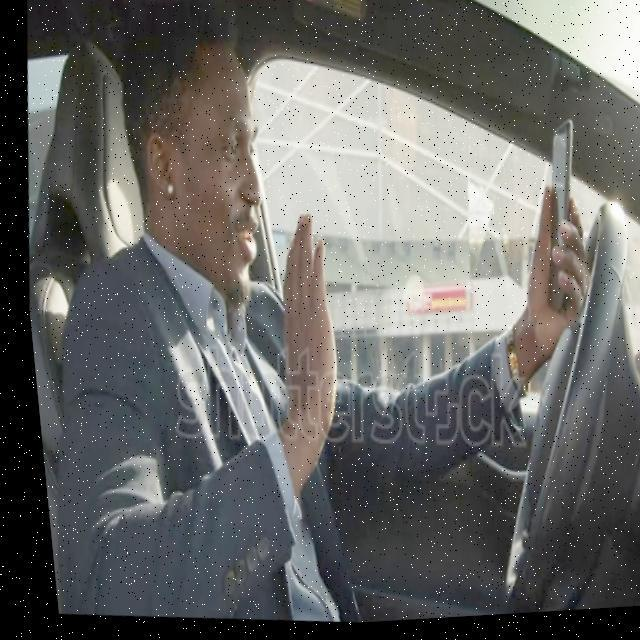PhoneCall: (526, 124, 584, 314)
